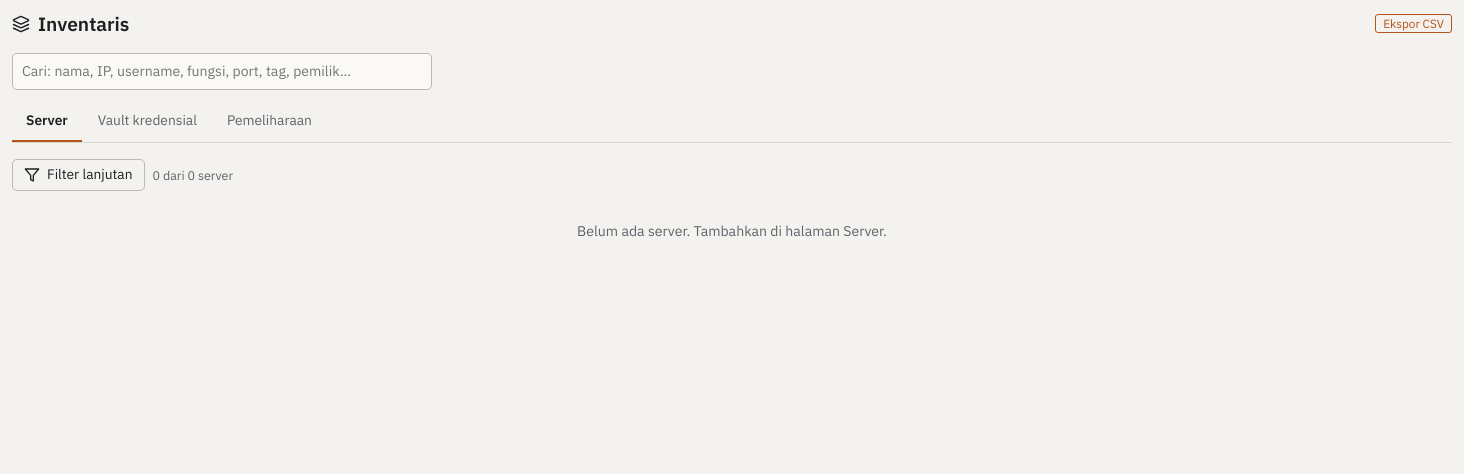
Test: InventoryPage: tabel Vault dan Pemeliharaan › Pemeliharaan: urut jatuh tempo, filter status, dan pencarian di klien
This screenshot has width=1464, height=474.
Click the tab "Pemeliharaan" at (270, 122), box [213,102,326,142]
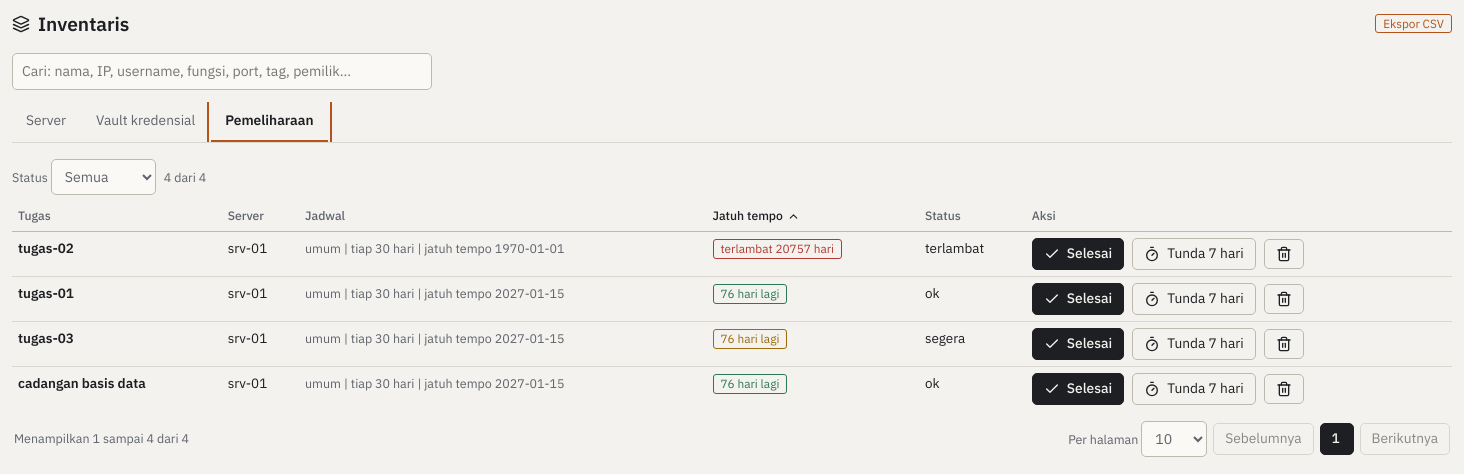
expect the text "Menampilkan 1 sampai 4 dari 4" is shown: met, box [14,430,189,448]
expect the row that starts with "tugas-02" is shown: met, box [18,239,74,257]
Select "Segera" in the dropdown labelled "Status" at (103, 177), box [51,159,156,195]
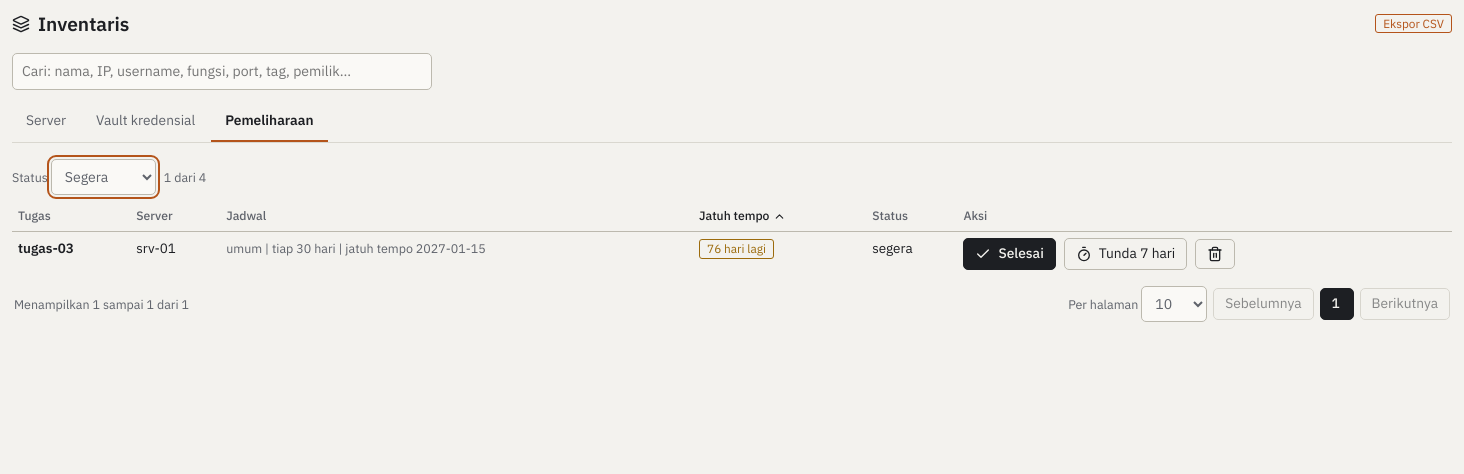
expect the row that starts with "tugas-03" is shown: met, box [18,239,74,257]
Select "Semua" in the dropdown labelled "Status" at (103, 177), box [51,159,156,195]
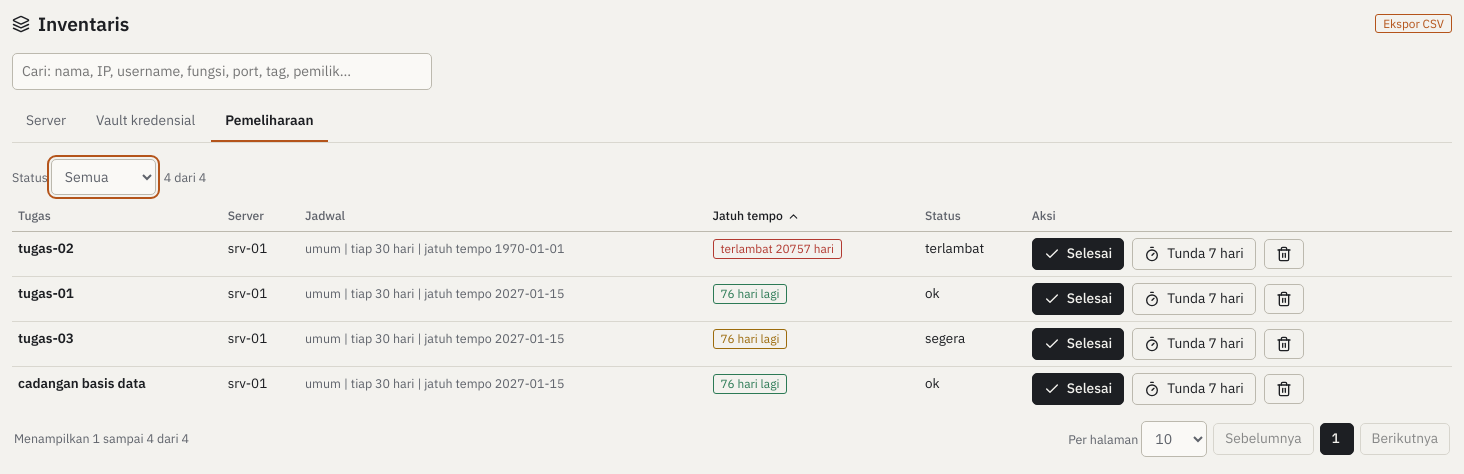
Type "cadangan" into the search field labelled "Cari" at (222, 72), box [12,53,432,90]
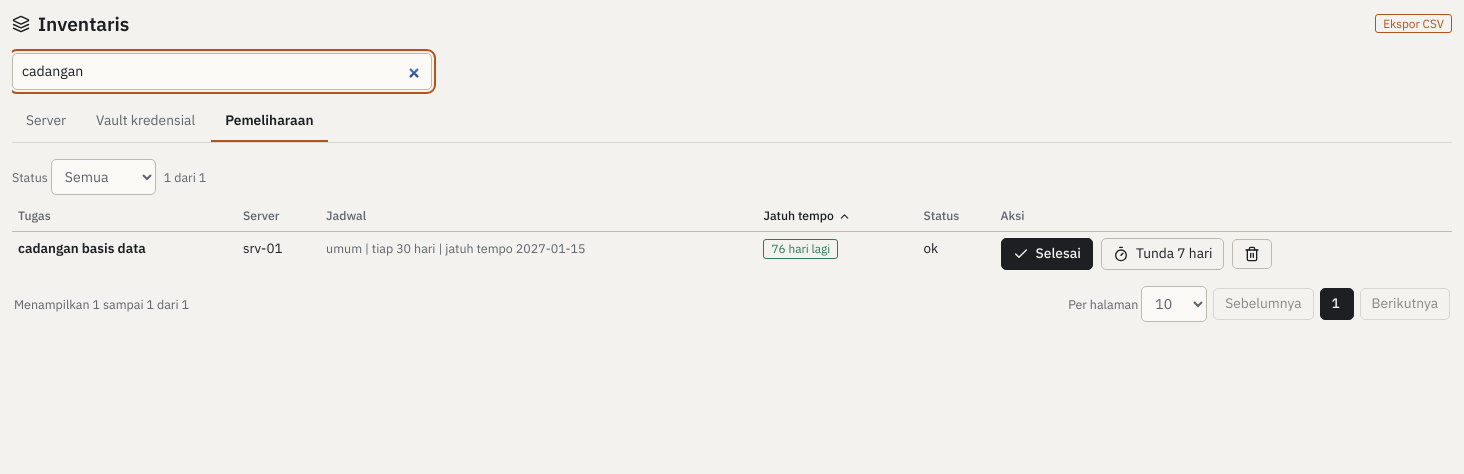
expect the text "Menampilkan 1 sampai 1 dari 1" is shown: met, box [14,295,189,314]
